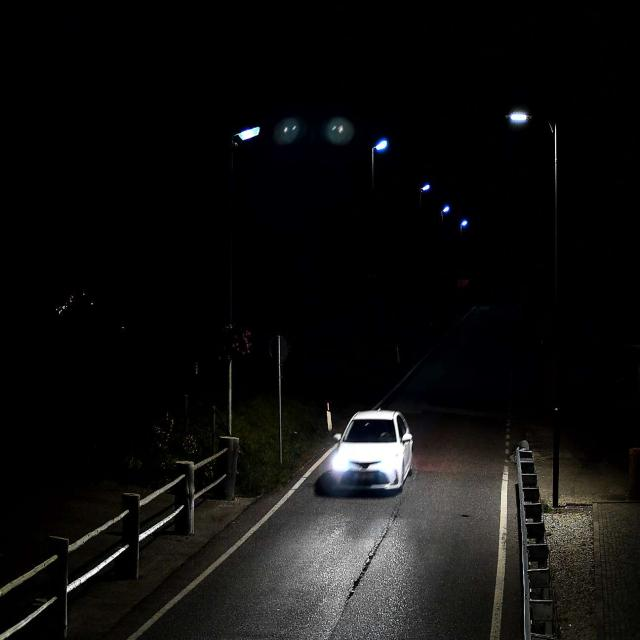car: (330, 408, 413, 492)
